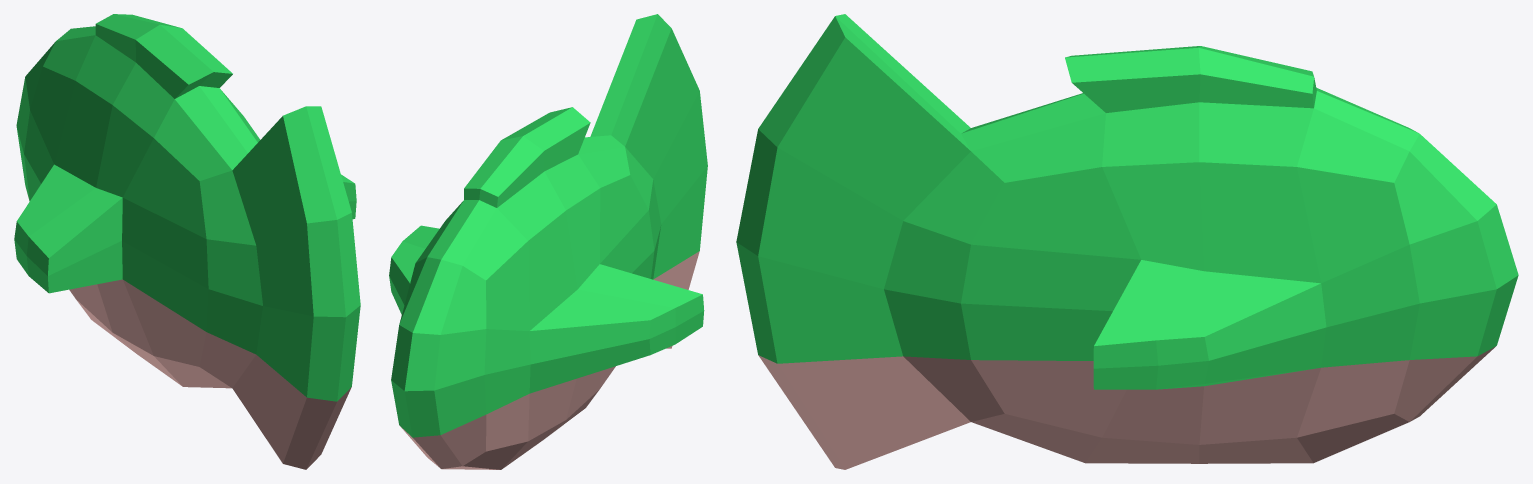
File: green_fish.glb
The picture shows the model from 3 angles, left to right: view 1: azimuth 30°, elevation 25°; view 2: azimuth 150°, elevation 25°; view 3: azimuth 270°, elevation 25°; orthographic projection. The views are drawn at different scales.
Parts seen in each view (by area): view 1: green; view 2: green; view 3: green.
Boxes of the visible parts, x1=… form: green: x1=14, y1=14, x2=360, y2=469; green: x1=389, y1=14, x2=707, y2=469; green: x1=736, y1=14, x2=1518, y2=469.
Size of the model in its own units: 0.4577 by 0.5152 by 0.8081.
